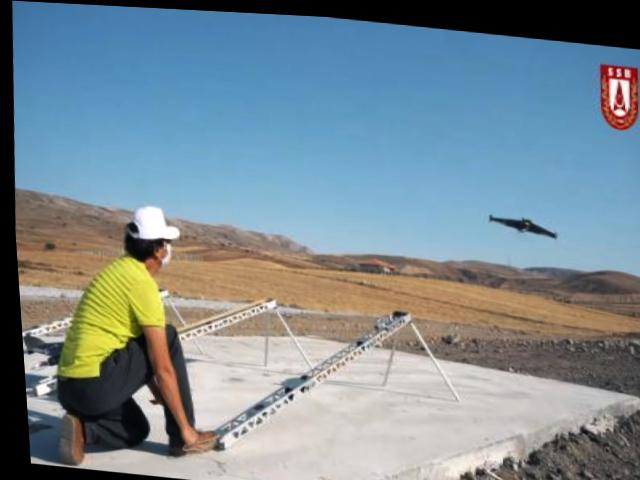uav: (483, 207, 559, 235)
